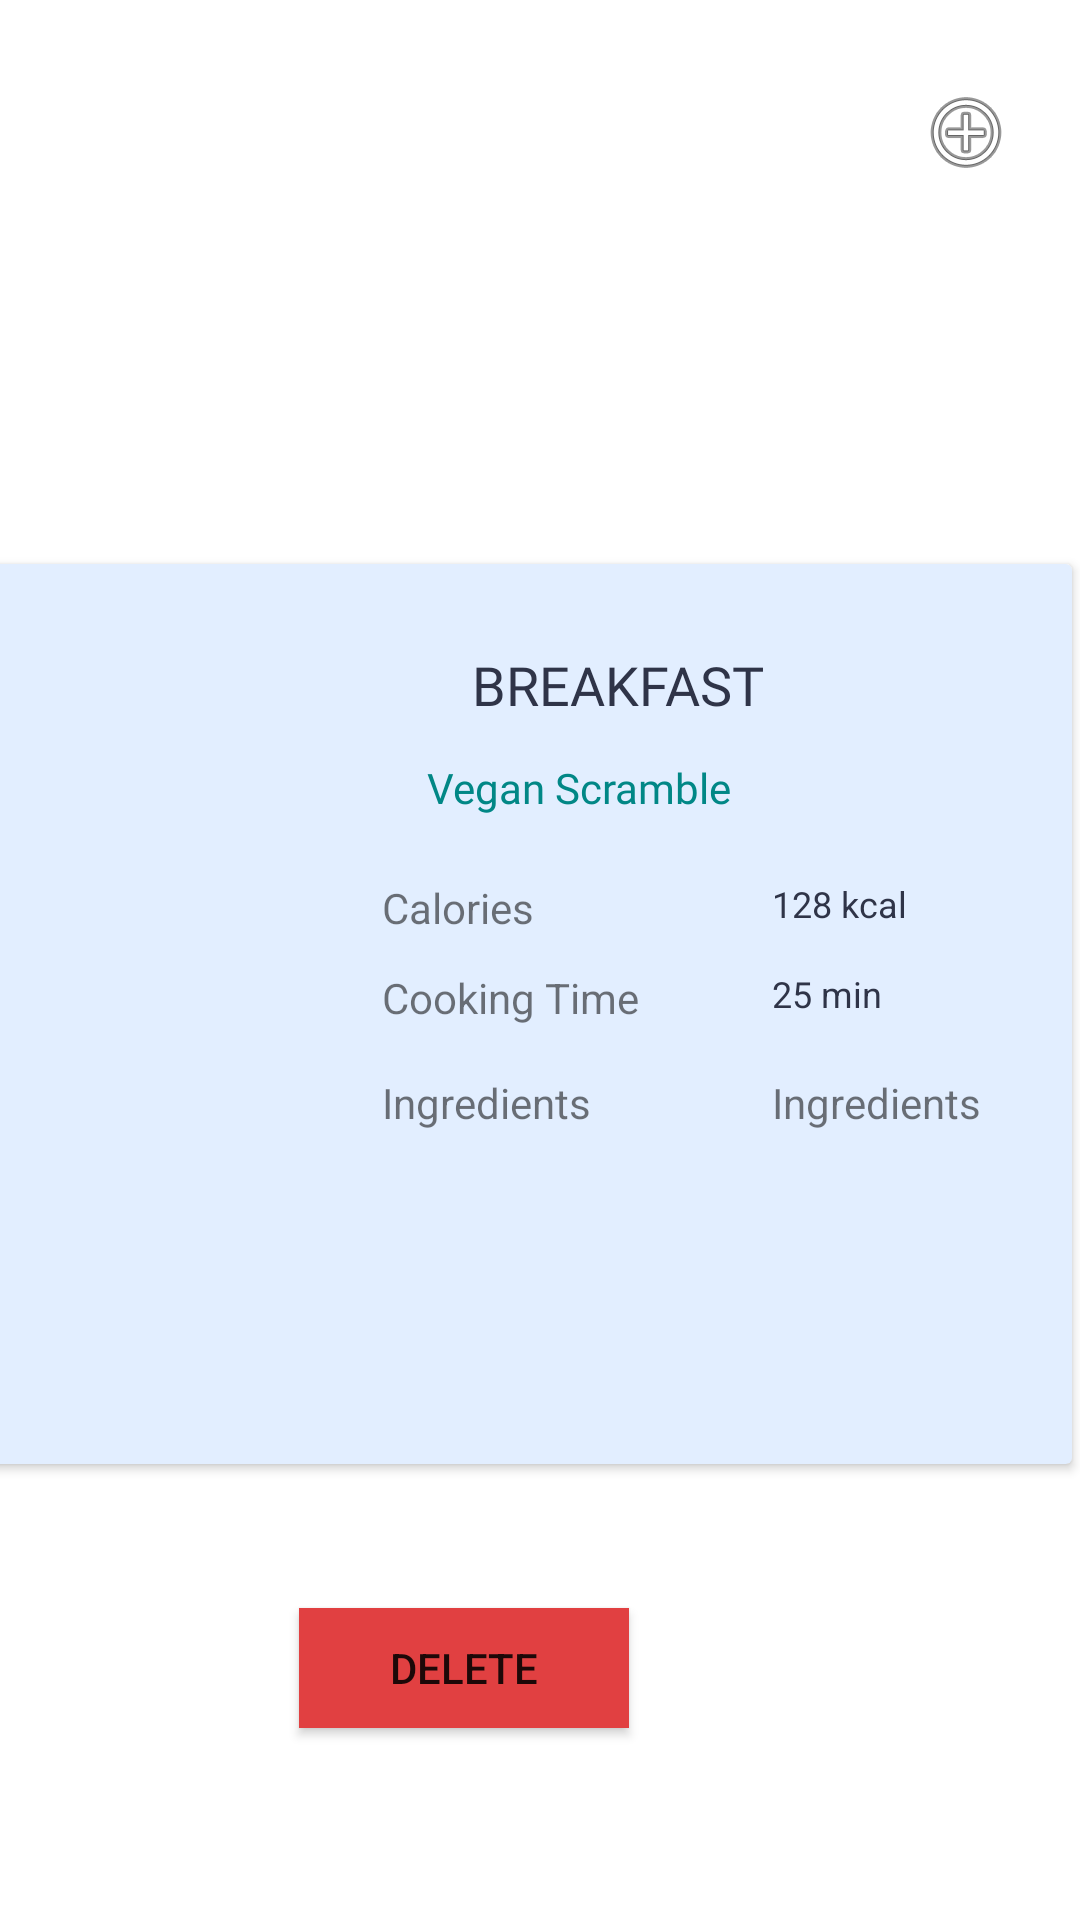

Icons on this 1080 x 1920 Android screen, each with its box as bbox=(x1, y1, x2, y2):
add: bbox=(930, 97, 1002, 168)
